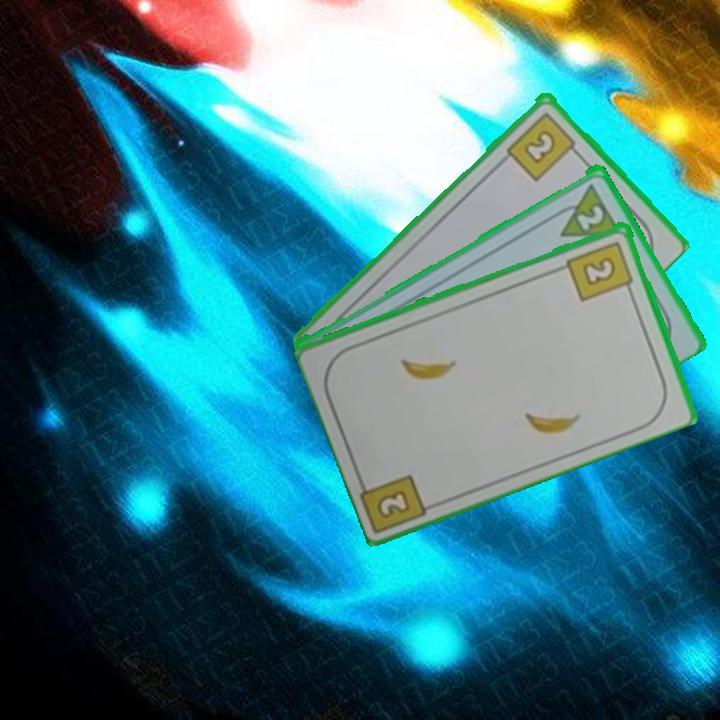2b: (503, 108, 583, 184), (563, 237, 637, 304), (373, 486, 414, 522)
2p: (573, 201, 607, 233)
